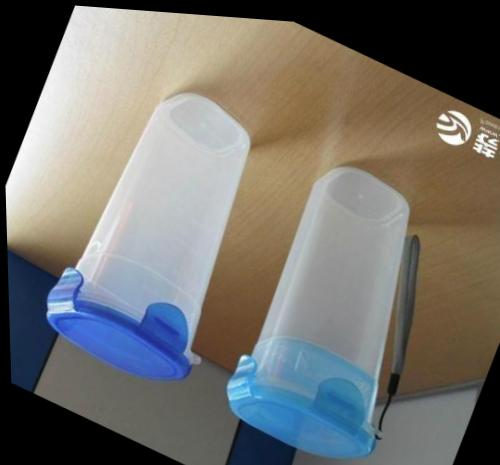plastic: (47, 93, 249, 379), (227, 167, 419, 458)
